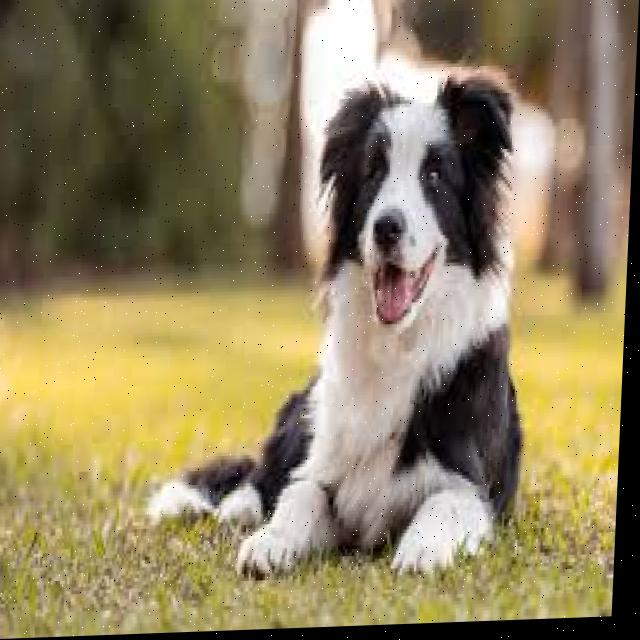BORDER_COLLIE: (155, 60, 555, 600)
